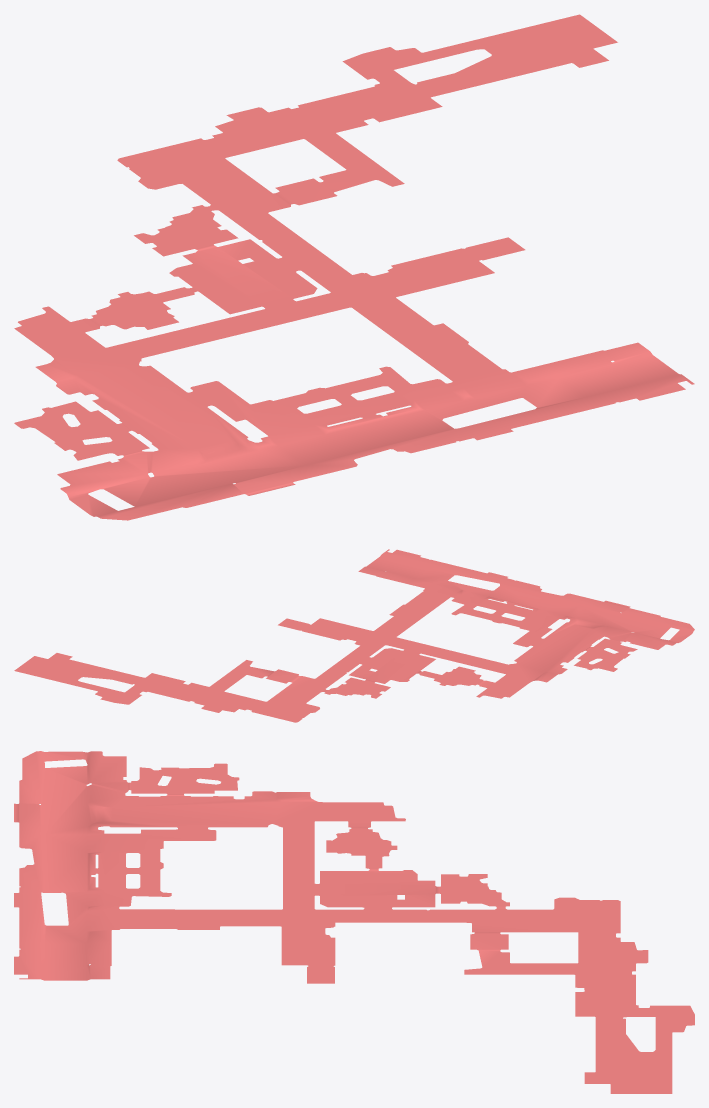
File: Prohibited_ALLEY.fbx
3 views of the same model, one above another, from view 1: azimuth 30°, elevation 25°; view 2: azimuth 150°, elevation 25°; view 3: azimuth 270°, elevation 25° (orthographic). The views are drawn at different scales.
Parts seen in each view (by area): view 1: Alley; view 2: Alley; view 3: Alley.
Part boxes in pixels (box(x1,y1,x2,y2)): Alley: box(14, 14, 694, 520); Alley: box(14, 549, 694, 722); Alley: box(14, 751, 694, 1093).
Size of the model in its own units: 108 by 0.282 by 90.6.
